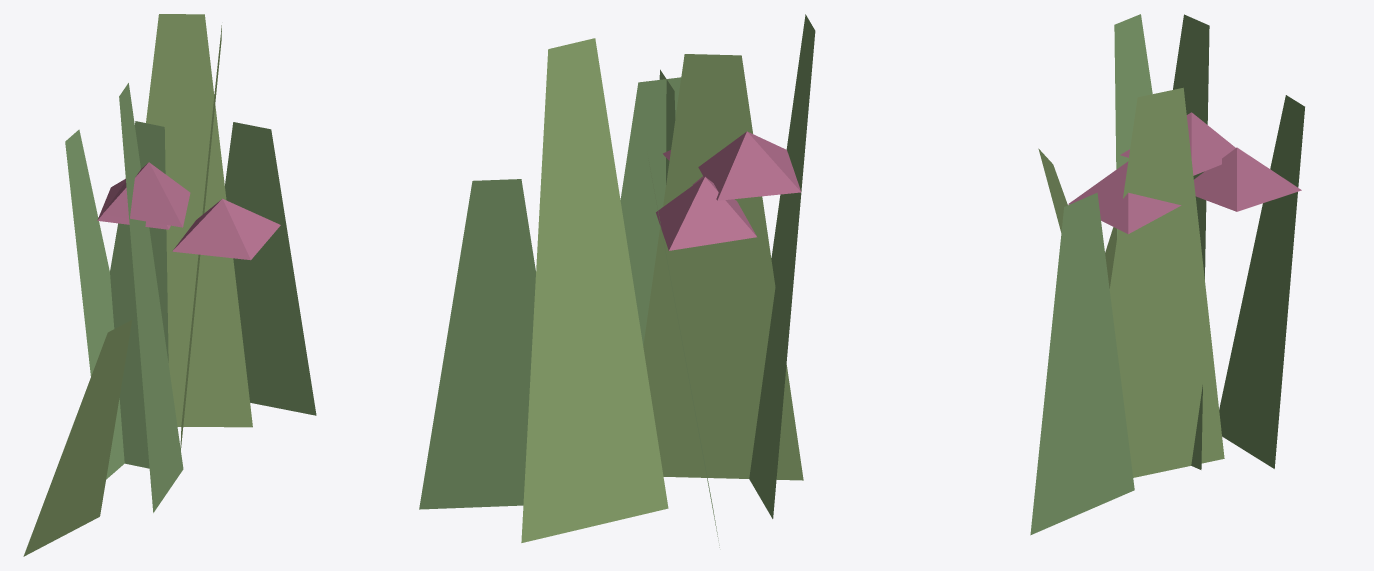
The model's file is shrub.temp.grass__bloom.glb.
The picture shows the model from 3 angles, left to right: view 1: azimuth 30°, elevation 25°; view 2: azimuth 150°, elevation 25°; view 3: azimuth 270°, elevation 25°; orthographic projection. The views are drawn at different scales.
Visible parts, largest first — view 1: shrub.temp.grass__bloom; view 2: shrub.temp.grass__bloom; view 3: shrub.temp.grass__bloom.
Part boxes in pixels (box(x1,y1,x2,y2)): shrub.temp.grass__bloom: box(23, 14, 316, 556); shrub.temp.grass__bloom: box(419, 14, 815, 547); shrub.temp.grass__bloom: box(1030, 14, 1304, 535).
Bounding box in the file's own units: 0.5952 × 0.5961 × 0.4268.
